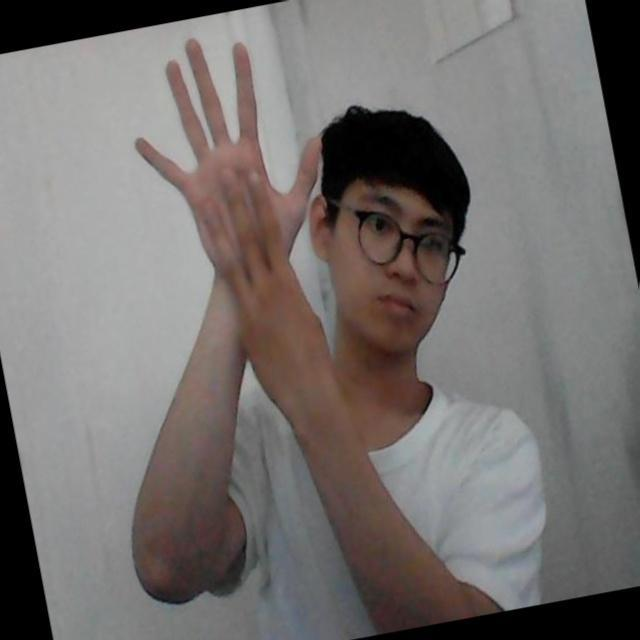M: (132, 33, 326, 295)
